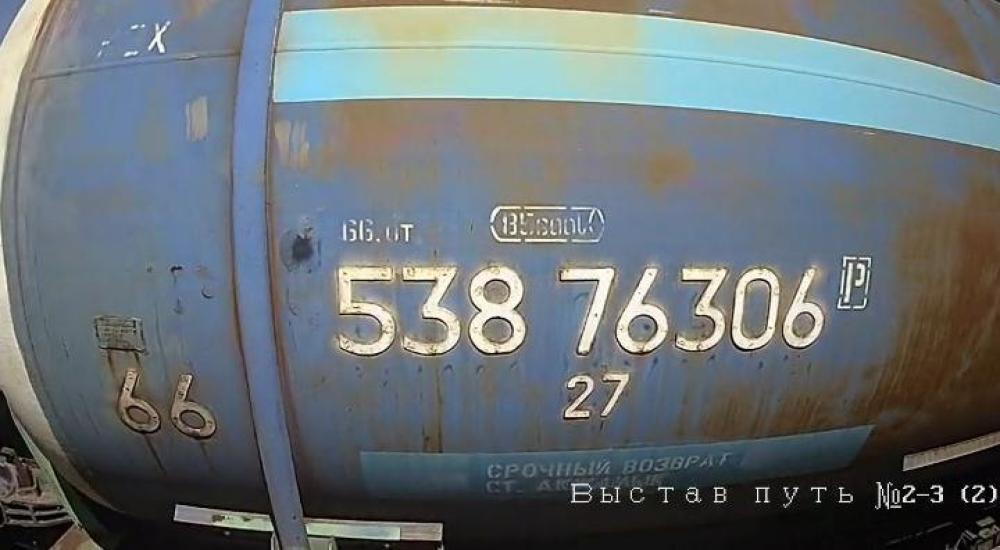Wagon-number: (332, 260, 829, 364)
